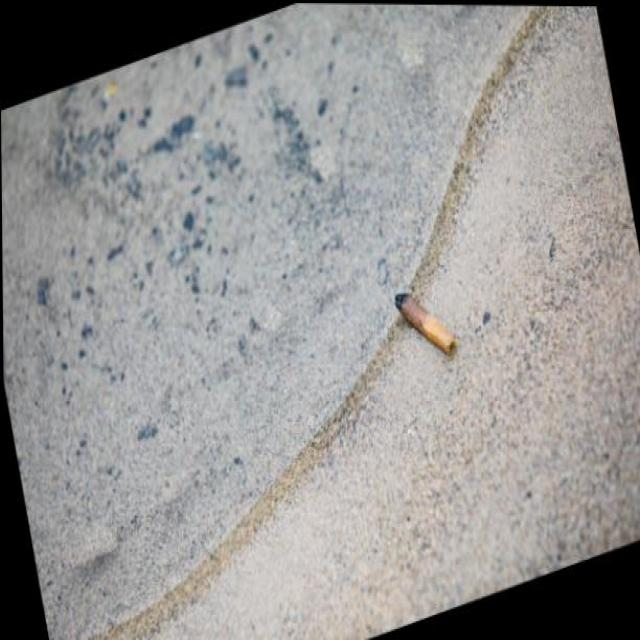cigarette: (392, 268, 460, 372)
